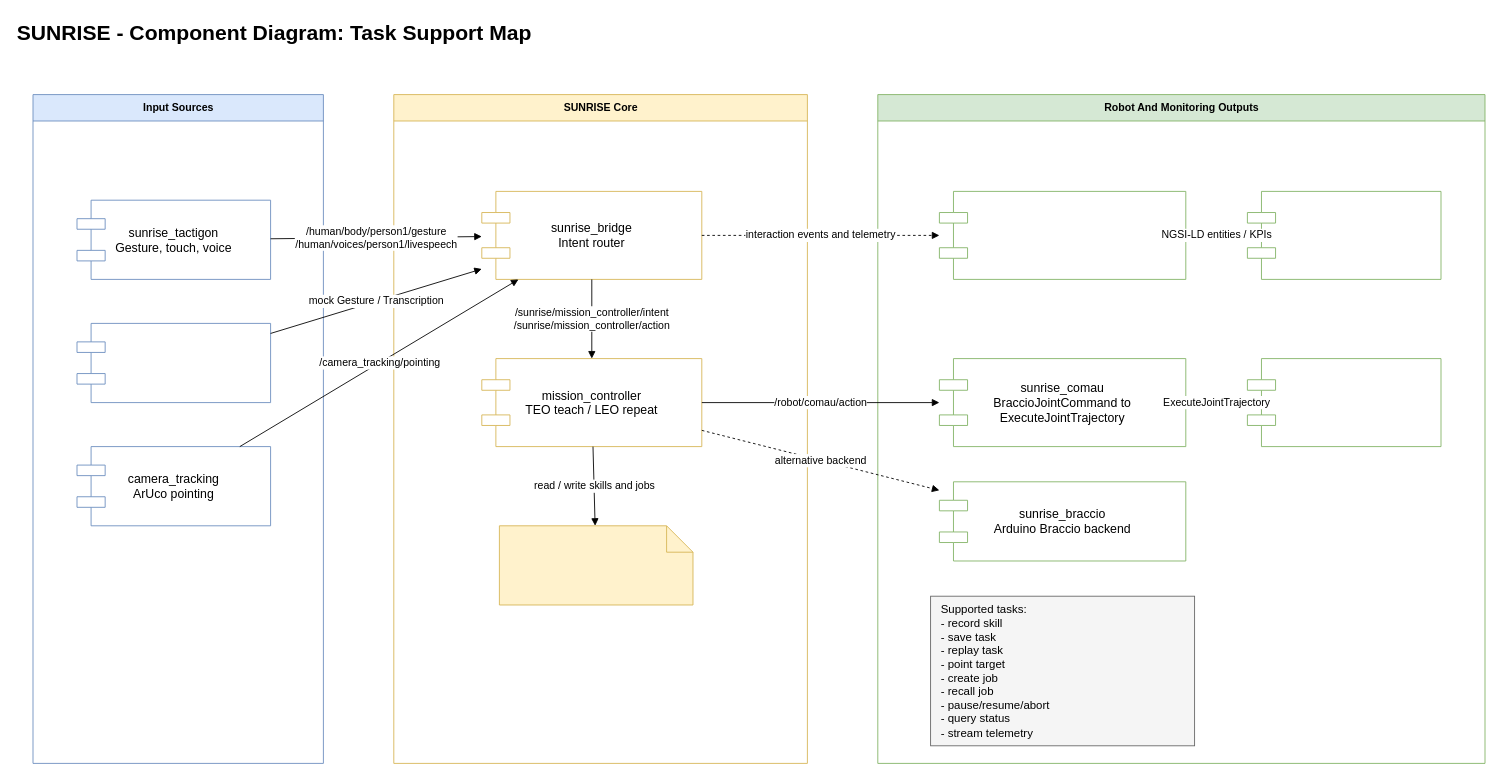
Image size: 1500x779. Some labels were removed from this diagram. Each missing label, with the centre of its shape:
COMAU Racer 7-1.4 or compatible robot: pixel 1344 402
Integration Service DDS / ROS 2 to FIWARE NGSI-LD: pixel 1062 235
Orion-LD, TimescaleDB, Grafana events and KPIs: pixel 1344 235
sunrise_tactigon_mock Hardware-free task input: pixel 173 363
Task catalog mission_controller_teacher.json: pixel 596 565
